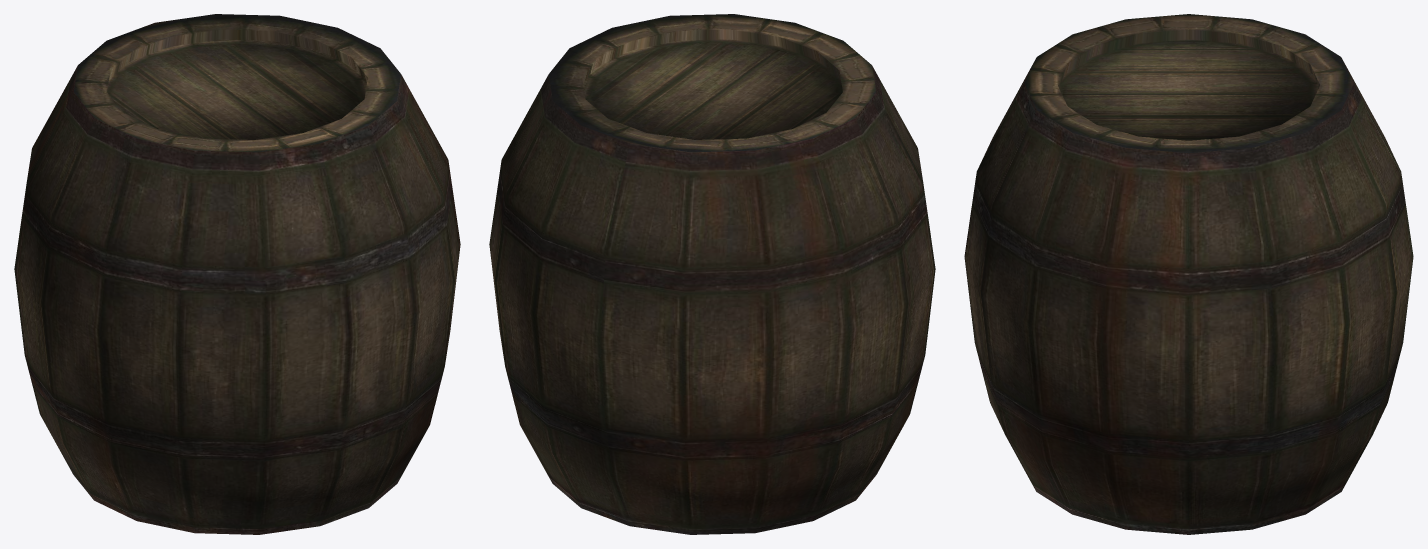
File: barril.fbx
The picture shows the model from 3 angles, left to right: view 1: azimuth 30°, elevation 25°; view 2: azimuth 150°, elevation 25°; view 3: azimuth 270°, elevation 25°; orthographic projection.
Parts seen in each view (by area): view 1: Cylinder; view 2: Cylinder; view 3: Cylinder.
Boxes of the visible parts, x1=… form: Cylinder: x1=14, y1=14, x2=460, y2=534; Cylinder: x1=489, y1=14, x2=935, y2=534; Cylinder: x1=964, y1=14, x2=1413, y2=534.
Bounding box in the file's own units: 294 × 276 × 294.
Materials: 1 (1 with a texture image).
